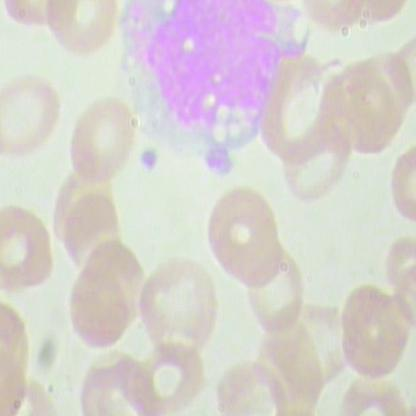RBC: (134, 258, 226, 366), (278, 119, 356, 220), (204, 183, 280, 286), (64, 98, 140, 192), (62, 254, 132, 353), (1, 68, 67, 166), (1, 200, 55, 300), (47, 1, 120, 61), (388, 141, 415, 238)
WBC: (115, 1, 310, 177)
